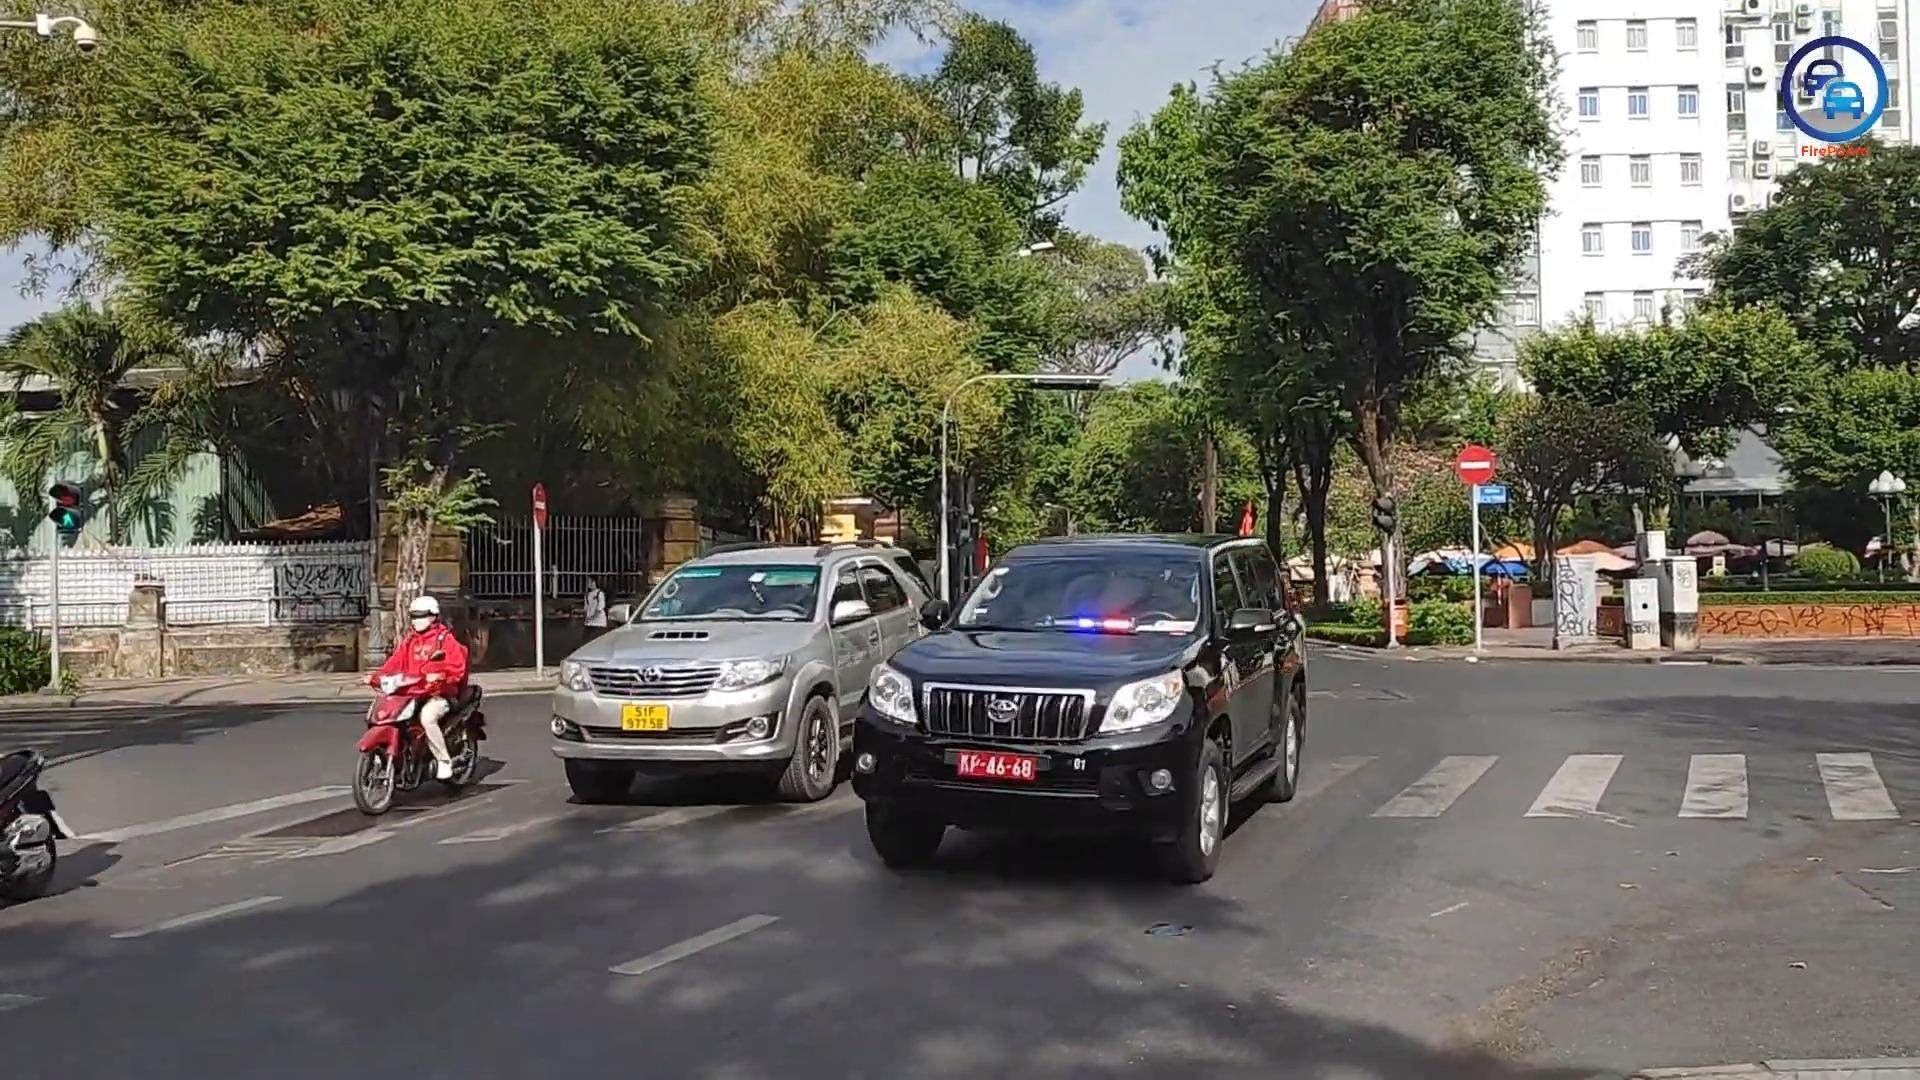bien_so: (956, 750, 1037, 784), (619, 701, 671, 733)
